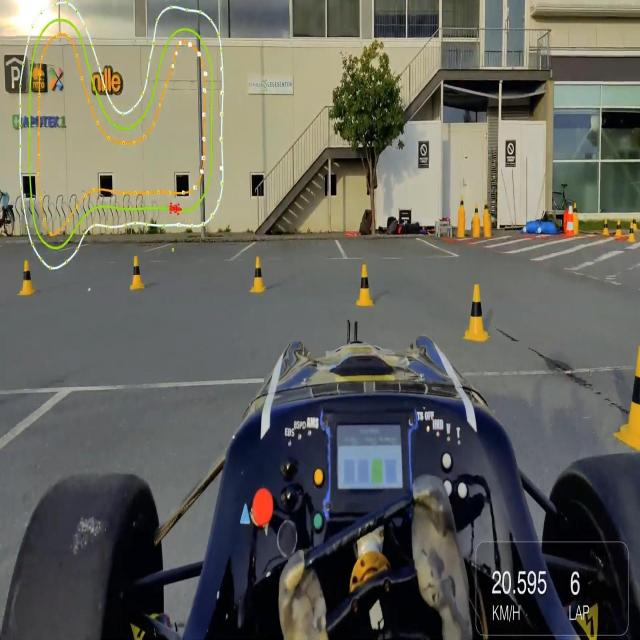large_orange_cone: (566, 204, 574, 239)
yellow_cone: (612, 341, 640, 452), (460, 281, 491, 344), (352, 260, 376, 309), (16, 257, 37, 297), (248, 256, 267, 294), (130, 254, 146, 291), (614, 218, 624, 237), (628, 220, 635, 243), (603, 216, 610, 236), (458, 194, 465, 211), (573, 201, 579, 220), (474, 200, 479, 218), (483, 201, 489, 215)
